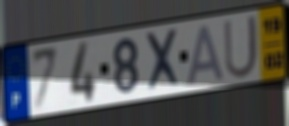4: (67, 39, 99, 106)
7: (31, 43, 60, 114)
8: (112, 36, 141, 98)
A: (186, 23, 228, 88)
U: (222, 12, 260, 82)
X: (143, 26, 184, 94)
